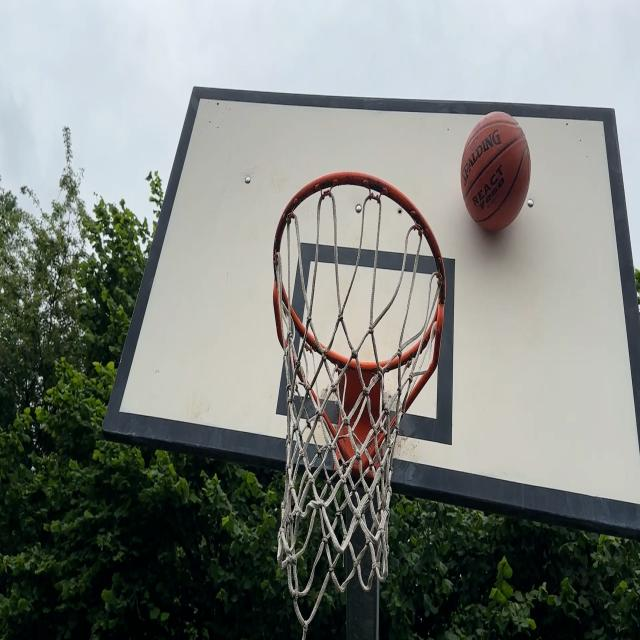rebound_hit: (461, 112, 531, 241)
